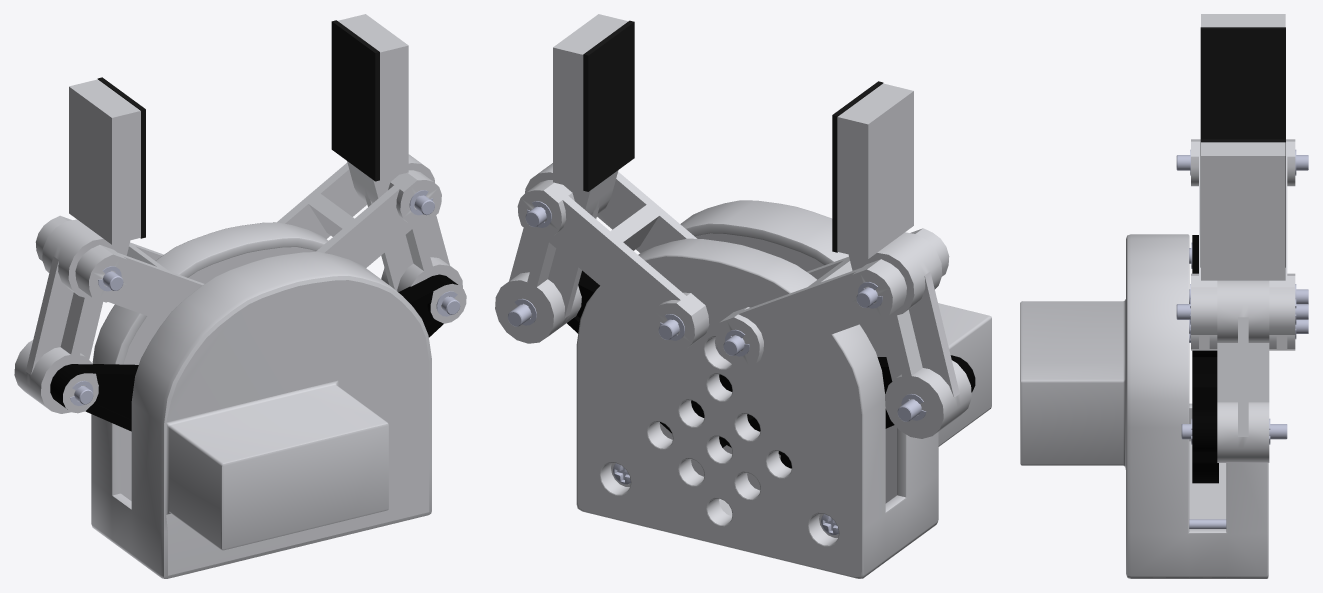
File: JiaJu.fbx
The picture shows the model from 3 angles, left to right: view 1: azimuth 30°, elevation 25°; view 2: azimuth 150°, elevation 25°; view 3: azimuth 270°, elevation 25°; orthographic projection. The views are drawn at different scales.
Visible parts, largest first — view 1: WaiKe001, ZhiJia_006, ZhiJia_009, ZhiJia_010, DianZi_002, ZhiJia_007, ZhiJia_008, ZhiJia_011, DianZi_003; view 2: WaiKe001, ZhiJia_006, ZhiJia_010, ZhiJia_009, ZhiJia_007, DianZi_002, DianZi_003, ZhiJia_011, ZhiJia_008; view 3: WaiKe001, ZhiJia_009, DianZi_003, ZhiJia_010, ZhiJia_011, ZhiJia_007, ZhiJia_006, DianZi_002, Zhou_011, Zhou_010, Zhou_007, ZhiJia_008 (+1 smaller).
Boxes of the visible parts, <box> form: WaiKe001: <box>91,222,431,578</box>; ZhiJia_006: <box>14,79,140,413</box>; ZhiJia_009: <box>338,14,462,292</box>; ZhiJia_010: <box>277,162,441,267</box>; DianZi_002: <box>331,20,379,181</box>; ZhiJia_007: <box>35,215,204,321</box>; ZhiJia_008: <box>50,364,138,431</box>; ZhiJia_011: <box>398,274,466,337</box>; DianZi_003: <box>97,77,145,238</box>; WaiKe001: <box>576,200,991,578</box>; ZhiJia_006: <box>837,83,971,438</box>; ZhiJia_010: <box>517,171,709,350</box>; ZhiJia_009: <box>495,14,627,343</box>; ZhiJia_007: <box>715,228,949,368</box>; DianZi_002: <box>583,20,634,191</box>; DianZi_003: <box>832,81,883,252</box>; ZhiJia_011: <box>567,270,753,447</box>; ZhiJia_008: <box>749,355,975,468</box>; WaiKe001: <box>1020,234,1268,578</box>; ZhiJia_009: <box>1201,142,1285,462</box>; DianZi_003: <box>1200,27,1285,139</box>; ZhiJia_010: <box>1191,287,1295,350</box>; ZhiJia_011: <box>1192,357,1218,483</box>; ZhiJia_007: <box>1191,139,1295,287</box>; ZhiJia_006: <box>1201,14,1285,27</box>; DianZi_002: <box>1200,139,1285,267</box>; Zhou_011: <box>1181,418,1287,444</box>; Zhou_010: <box>1176,298,1308,324</box>; Zhou_007: <box>1176,149,1308,175</box>; ZhiJia_008: <box>1192,235,1217,356</box>.
Size of the model in its own units: 21.12 by 21.01 by 12.73.
